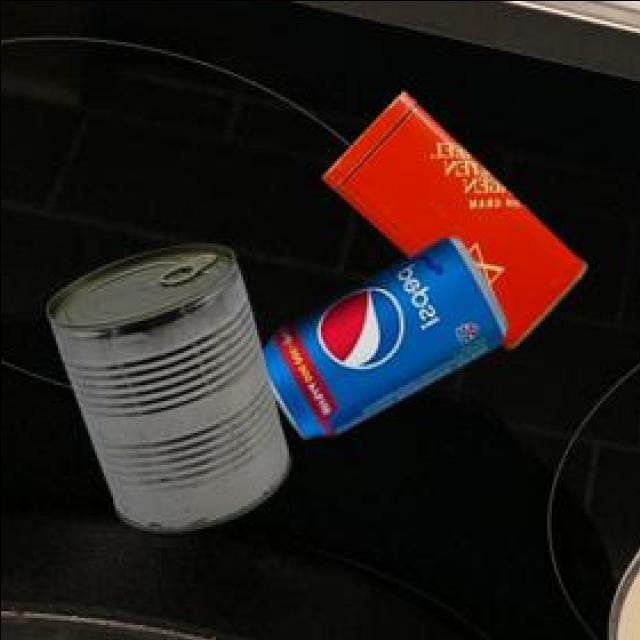logam: (42, 248, 285, 534), (319, 95, 584, 353), (257, 241, 502, 440)
